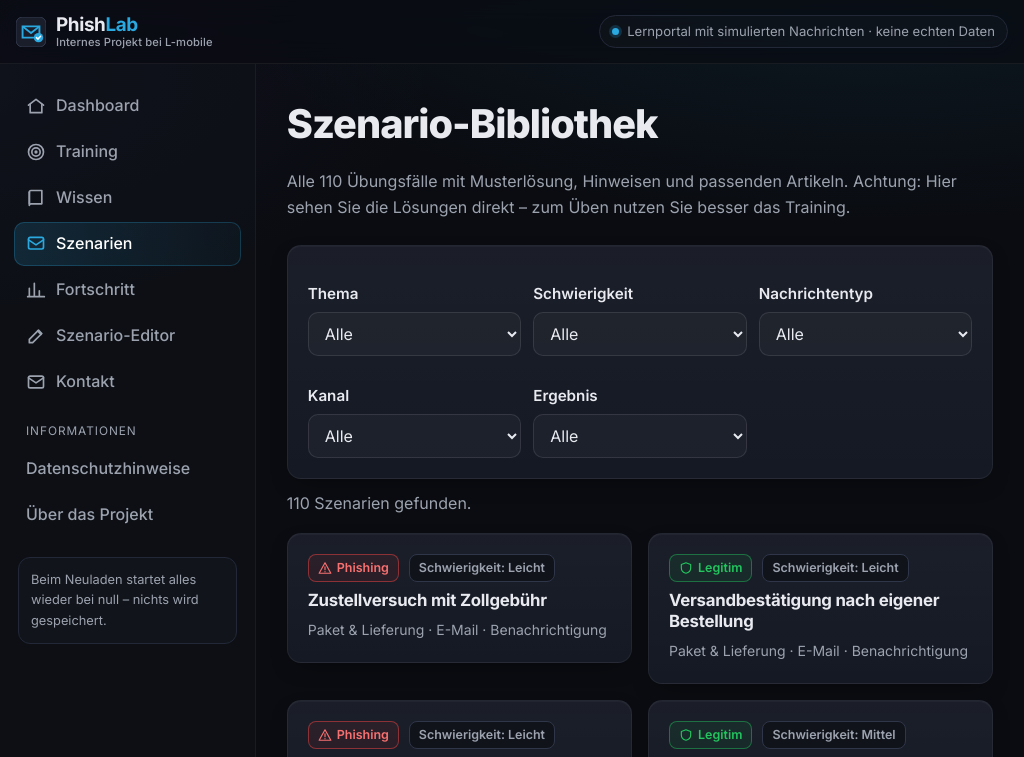
Test: Wissen und Bibliothek › Bibliothek filtert nach Ergebnis
This screenshot has width=1024, height=757.
Select "Legitim" in the dropdown labelled "Ergebnis". click: (640, 436)
box: [533,414,747,458]
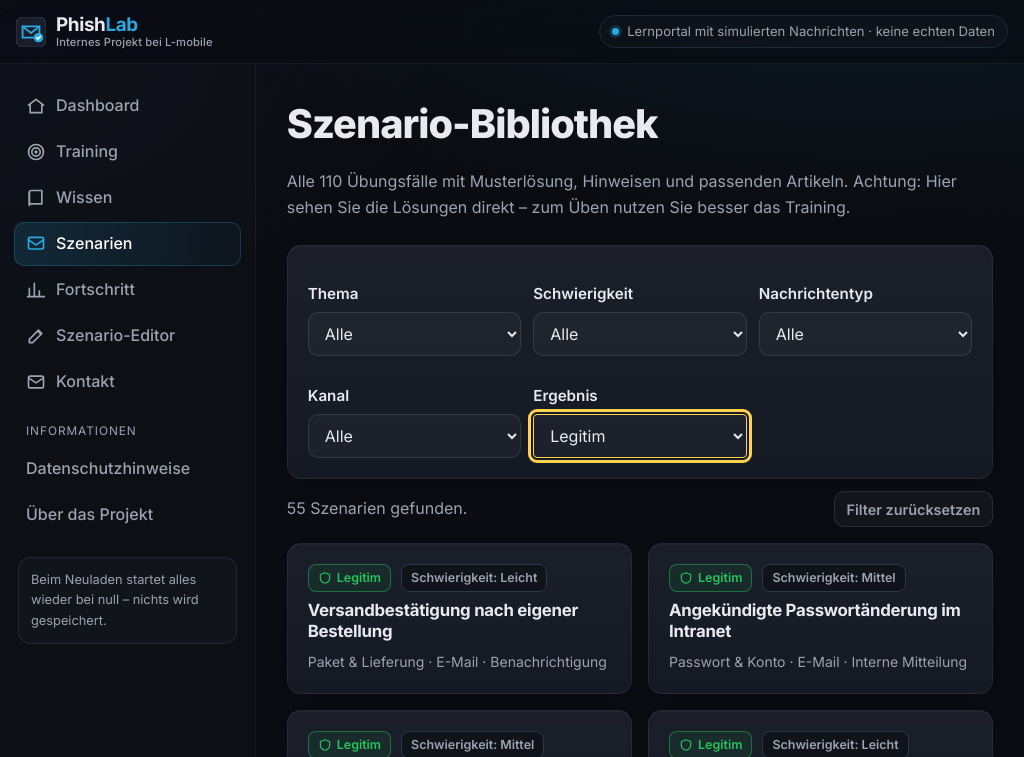
Result: the text "55 Szenarien gefunden." is shown at [287,496,467,522]
